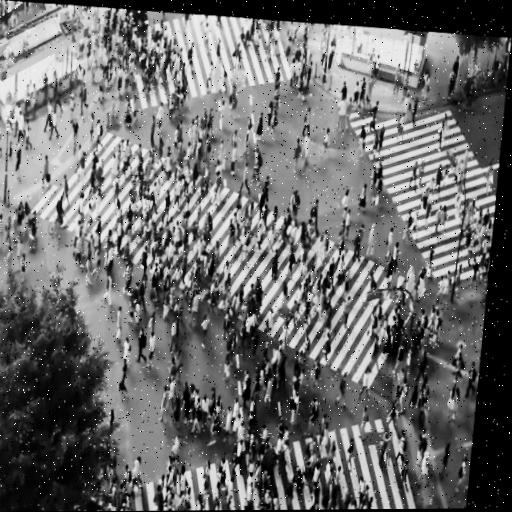balloon: (210, 59, 226, 92), (230, 63, 247, 90)
